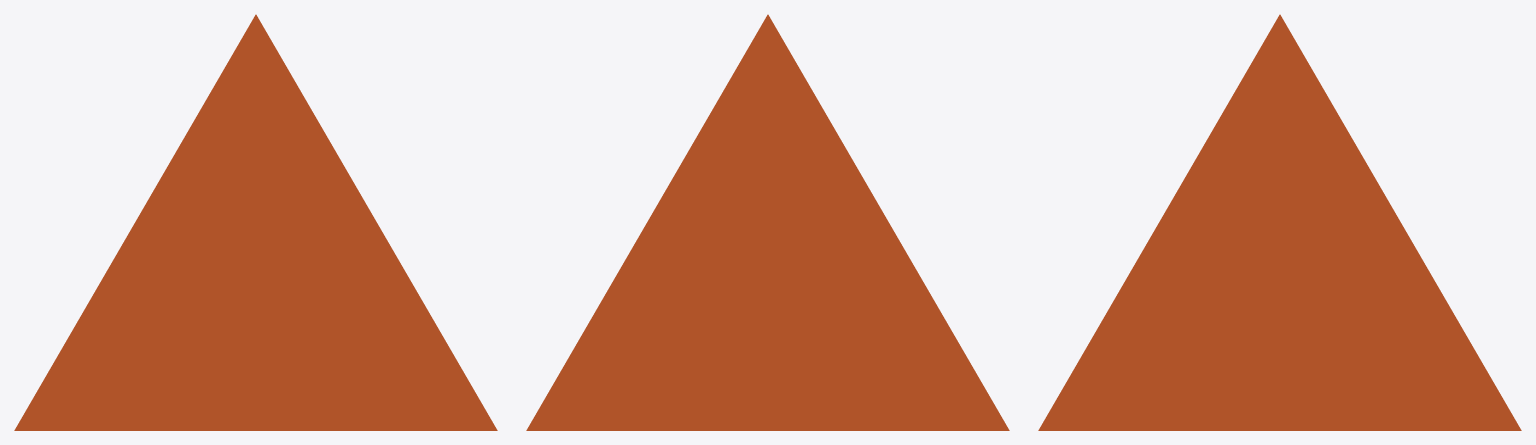
Rendered from 1_Toasty.S.dae.
3 renders of one model, left to right at view 1: azimuth 30°, elevation 25°; view 2: azimuth 150°, elevation 25°; view 3: azimuth 270°, elevation 25°, orthographic.
Visible parts, largest first — view 1: s1-1_019-n_S; view 2: s1-1_019-n_S; view 3: s1-1_019-n_S.
Part boxes in pixels (x1,y1,x2,y2): s1-1_019-n_S: [14, 14, 497, 430]; s1-1_019-n_S: [526, 14, 1009, 430]; s1-1_019-n_S: [1038, 14, 1521, 430].
Bounding box in the file's own units: 35472 × 40960 × 33444.
